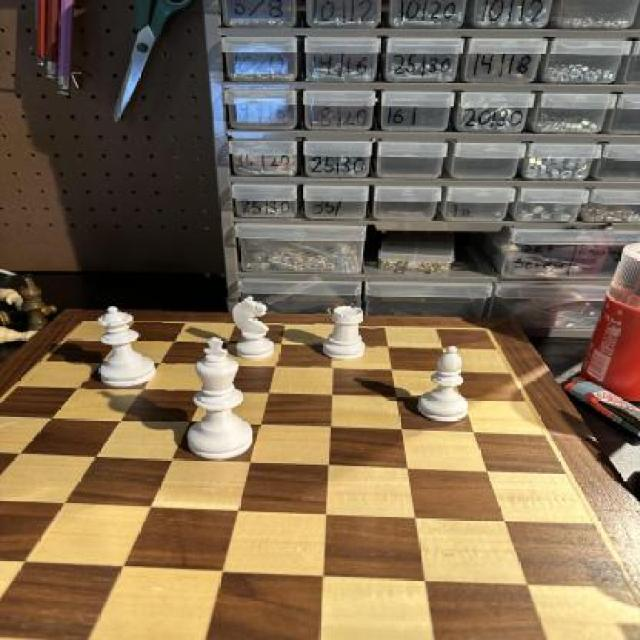black-rook: (414, 346, 475, 426)
white-bishop: (174, 338, 263, 462)
white-king: (225, 297, 283, 365)
white-pawn: (83, 300, 166, 393)
white-queen: (312, 298, 378, 369)
